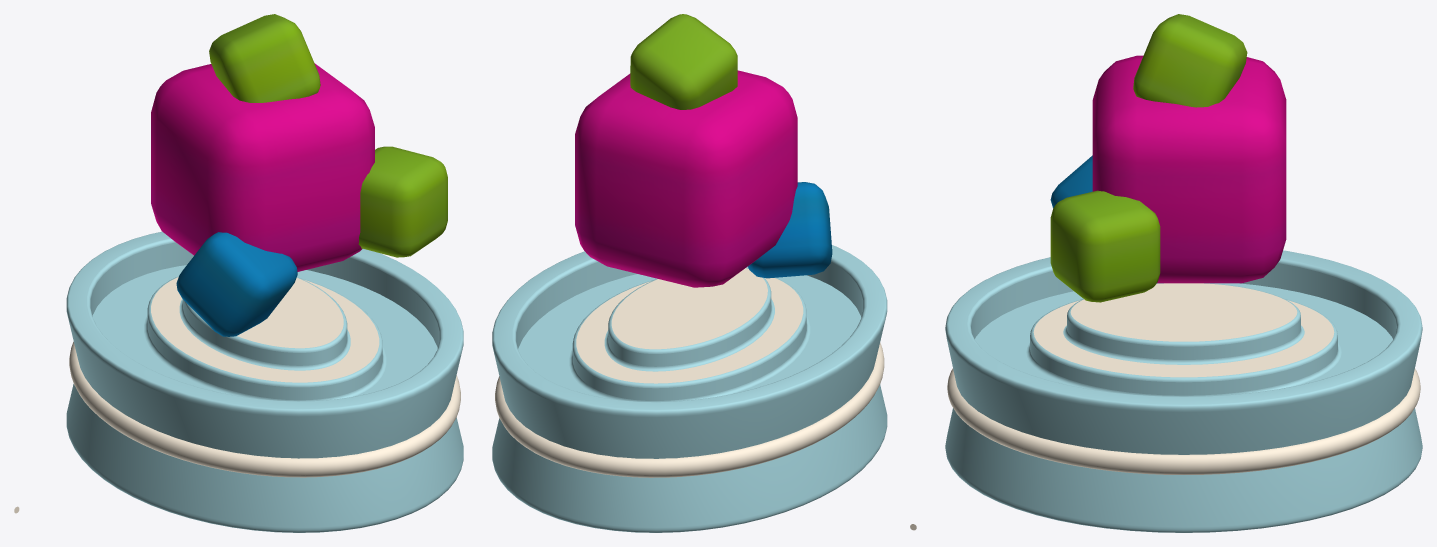
File: 小装置（新）fbx.fbx
3 renders of one model, left to right at view 1: azimuth 30°, elevation 25°; view 2: azimuth 150°, elevation 25°; view 3: azimuth 270°, elevation 25°, orthographic. The views are drawn at different scales.
Parts seen in each view (by area): view 1: 圆柱_9, model_6, model_6.001, model_6.002, model_6.004; view 2: 圆柱_9, model_6, model_6.004, model_6.001; view 3: 圆柱_9, model_6, model_6.002, model_6.004, model_6.001.
Part boxes in pixels (x1,y1,x2,y2): 圆柱_9: (66, 231, 463, 532); model_6: (151, 63, 374, 271); model_6.001: (176, 232, 297, 336); model_6.002: (358, 146, 447, 257); model_6.004: (209, 14, 320, 102); 圆柱_9: (492, 245, 887, 532); model_6: (575, 70, 797, 287); model_6.004: (630, 14, 737, 109); model_6.001: (748, 182, 832, 278); 圆柱_9: (945, 250, 1422, 532); model_6: (1092, 55, 1286, 283); model_6.002: (1050, 190, 1160, 302); model_6.004: (1133, 14, 1247, 107); model_6.001: (1050, 155, 1092, 207).
Bounding box in the file's own units: 3207 × 3382 × 3186.
